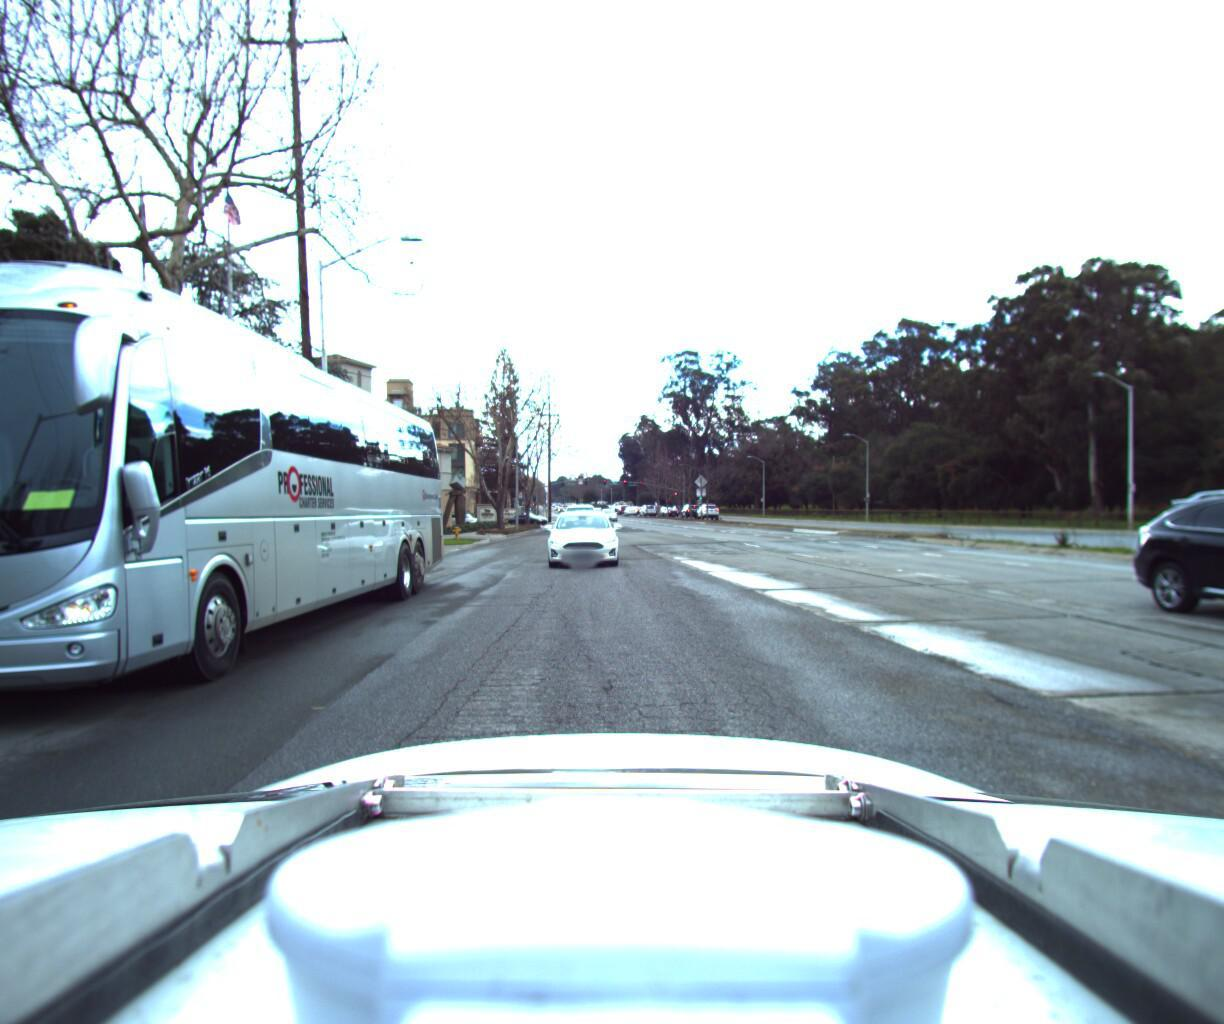bus: (0, 199, 449, 760)
car: (1196, 474, 1224, 688), (538, 502, 616, 565)
